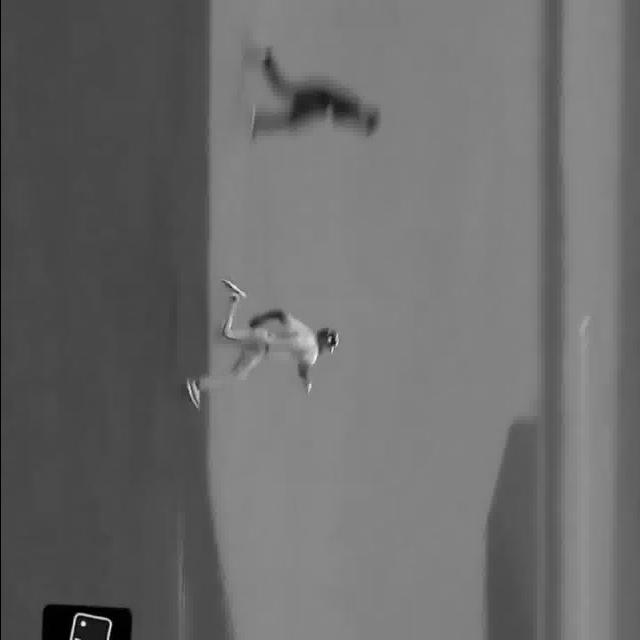shoe: (222, 279, 246, 301), (184, 379, 201, 408)
